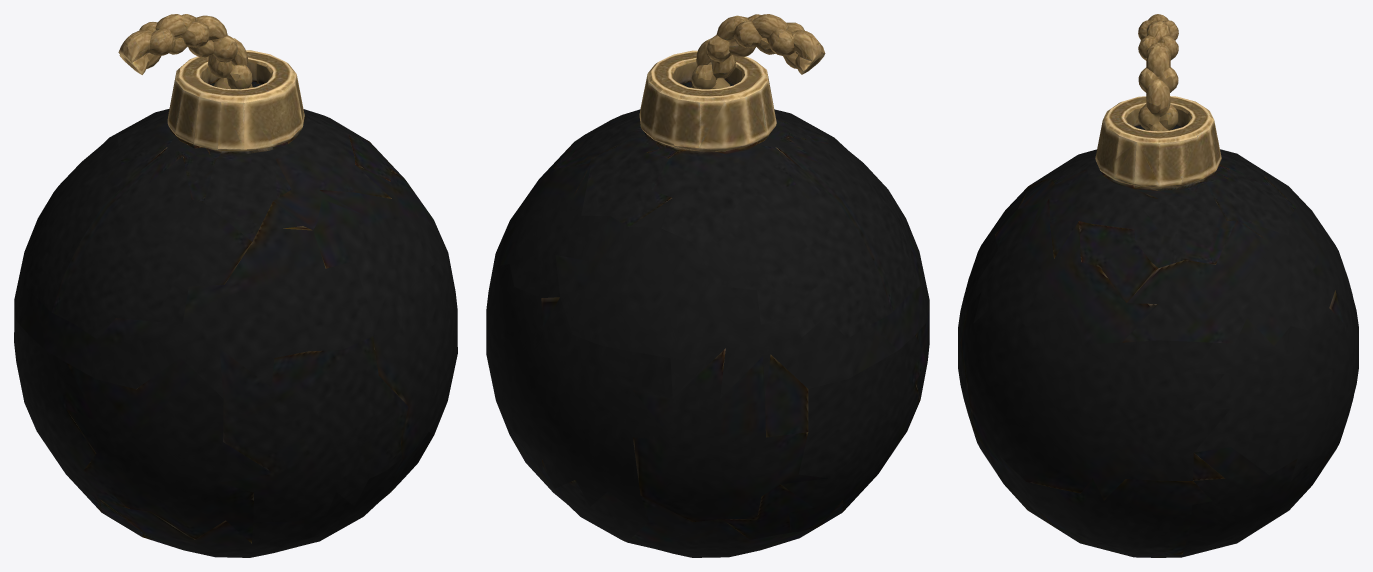
File: smokescreen_bomb.glb
3 views of the same model, side by side, from view 1: azimuth 30°, elevation 25°; view 2: azimuth 150°, elevation 25°; view 3: azimuth 270°, elevation 25° (orthographic). The views are drawn at different scales.
Bounding box in the file's own units: 0.3126 × 0.4231 × 0.3126.
Materials: 1 (1 with a texture image).
